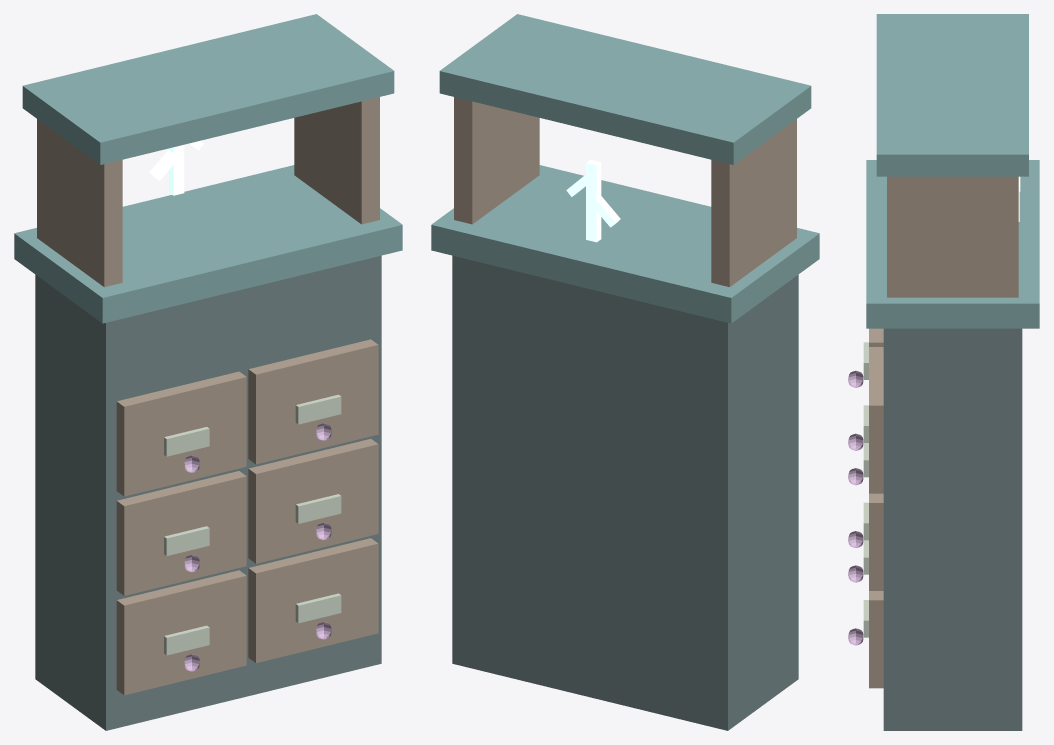
File: runestone-conservatory-botanical-seed-cabinet__113.glb
3 views of the same model, side by side, from view 1: azimuth 30°, elevation 25°; view 2: azimuth 150°, elevation 25°; view 3: azimuth 270°, elevation 25° (orthographic). The views are drawn at different scales.
Parts seen in each view (by area): view 1: runestone-conservatory-seed-cabinet; view 2: runestone-conservatory-seed-cabinet; view 3: runestone-conservatory-seed-cabinet.
Part boxes in pixels (x1,y1,x2,y2): runestone-conservatory-seed-cabinet: (14,14,402,730); runestone-conservatory-seed-cabinet: (431,14,819,730); runestone-conservatory-seed-cabinet: (848,14,1039,730).
Bounding box in the file's own units: 0.98 × 1.85 × 0.5517.
